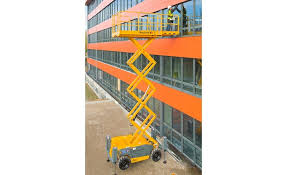Scissor Lift: (104, 10, 180, 171)
